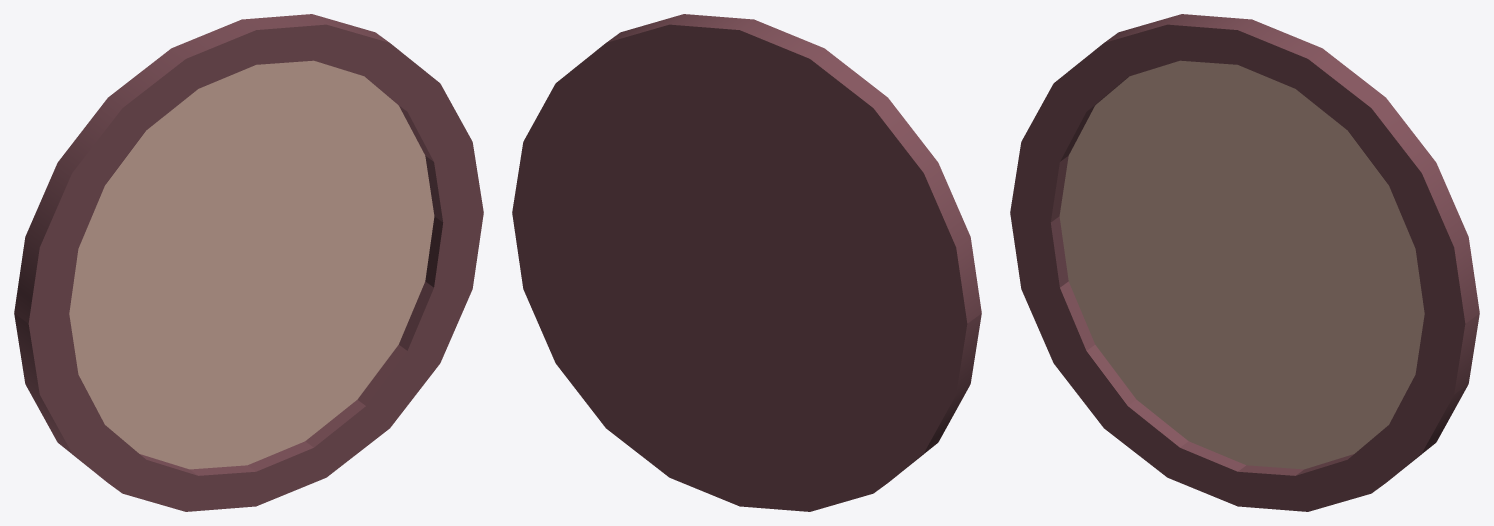
Rendered from Picture_03.fbx.
The picture shows the model from 3 angles, left to right: view 1: azimuth 30°, elevation 25°; view 2: azimuth 150°, elevation 25°; view 3: azimuth 330°, elevation 25°; orthographic projection.
Parts seen in each view (by area): view 1: Picture_03; view 2: Picture_03; view 3: Picture_03.
Part boxes in pixels (x1,y1,x2,y2): Picture_03: (14,14,483,511); Picture_03: (512,14,981,511); Picture_03: (1010,14,1479,511).
Size of the model in its own units: 1807 by 1807 by 99.72.
